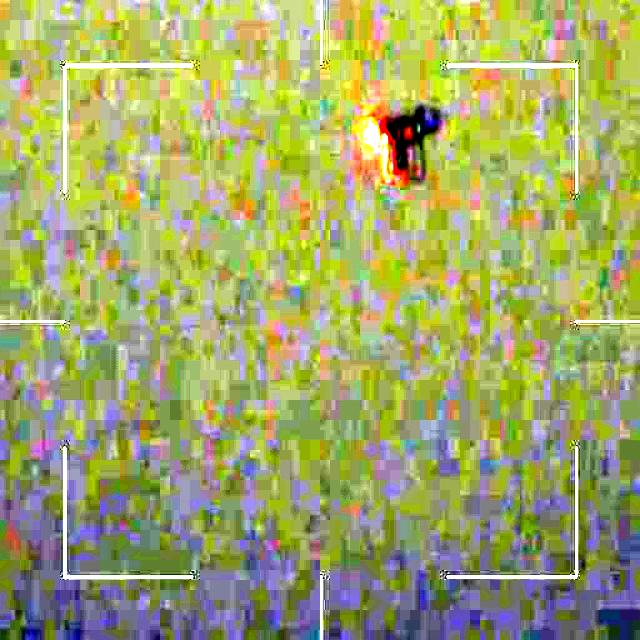bird: (355, 100, 444, 195)
